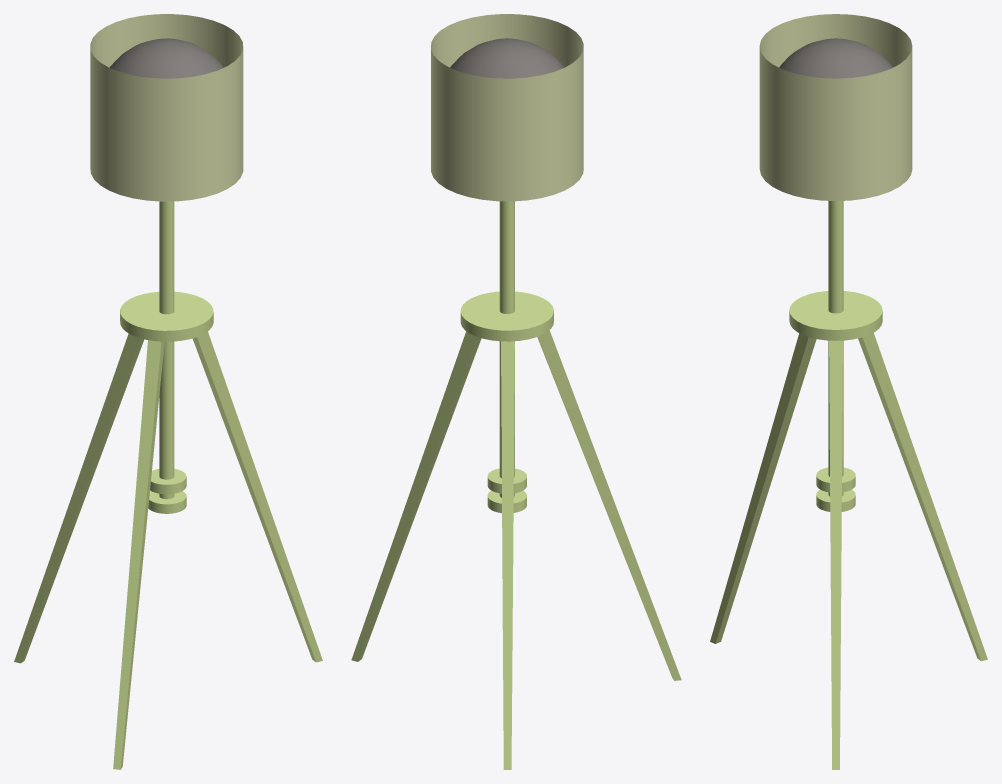
File: lamp_missed.glb
3 renders of one model, left to right at view 1: azimuth 30°, elevation 25°; view 2: azimuth 150°, elevation 25°; view 3: azimuth 270°, elevation 25°, orthographic.
Parts seen in each view (by area): view 1: Cylinder.004, Cube.003, Cube.002, Cube, Cylinder.001, Cylinder, Sphere, Cylinder.002, Cylinder.003; view 2: Cylinder.004, Cube.002, Cube, Cube.003, Cylinder, Sphere, Cylinder.001, Cylinder.002; view 3: Cylinder.004, Cube, Cube.003, Cube.002, Cylinder, Sphere, Cylinder.001, Cylinder.002, Cylinder.003.
Boxes of the visible parts, x1,y1,x2,y2 form: Cylinder.004: [90, 14, 243, 201]; Cube.003: [113, 340, 164, 769]; Cube.002: [14, 333, 144, 663]; Cube: [192, 331, 322, 662]; Cylinder.001: [159, 201, 174, 499]; Cylinder: [120, 291, 213, 341]; Sphere: [109, 38, 223, 78]; Cylinder.002: [150, 468, 186, 494]; Cylinder.003: [148, 491, 186, 513]; Cylinder.004: [431, 14, 583, 201]; Cube.002: [501, 341, 514, 769]; Cube: [351, 331, 481, 661]; Cube.003: [537, 330, 681, 680]; Cylinder: [460, 291, 553, 341]; Sphere: [450, 38, 564, 78]; Cylinder.001: [499, 201, 514, 497]; Cylinder.002: [487, 468, 526, 493]; Cylinder.004: [759, 14, 912, 201]; Cube: [829, 340, 842, 769]; Cube.003: [710, 333, 816, 643]; Cube.002: [858, 333, 987, 661]; Cylinder: [789, 291, 882, 340]; Sphere: [779, 38, 892, 78]; Cylinder.001: [828, 201, 843, 496]; Cylinder.002: [816, 467, 855, 492]; Cylinder.003: [816, 489, 855, 511].
Bounding box in the file's own units: 5.23 × 12.14 × 4.71.
